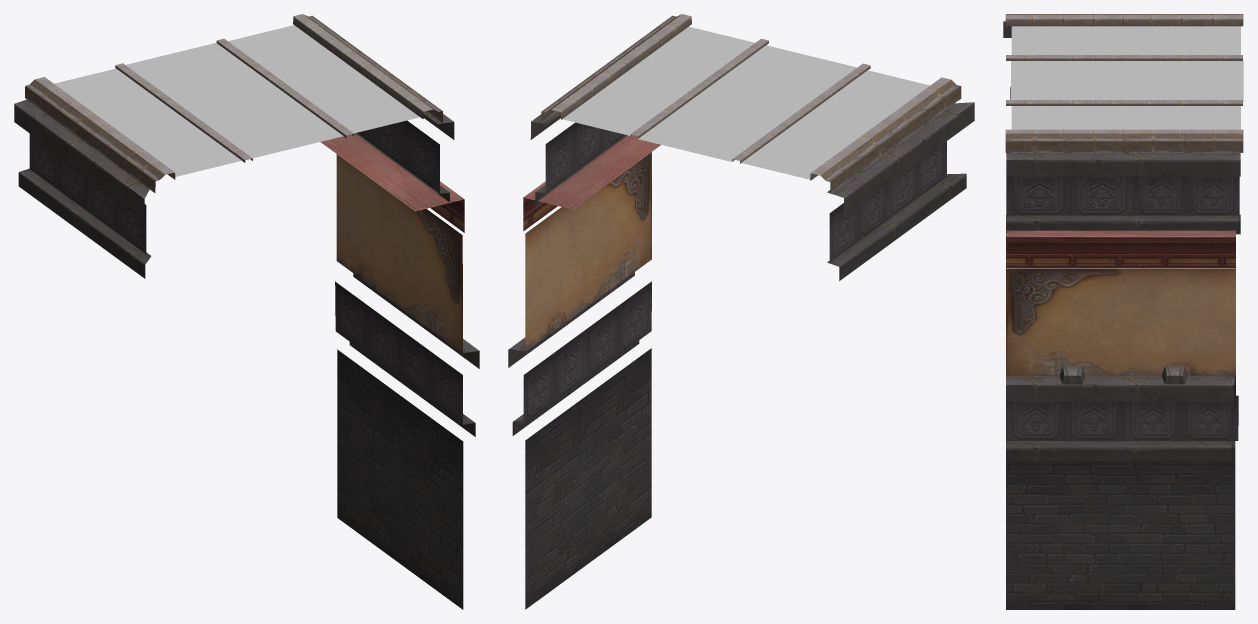
3 renders of one model, left to right at view 1: azimuth 30°, elevation 25°; view 2: azimuth 150°, elevation 25°; view 3: azimuth 270°, elevation 25°, orthographic. The views are drawn at different scales.
Parts seen in each view (by area): view 1: Group002; view 2: Group002; view 3: Group002.
Boxes of the visible parts, bbox=[...] form: Group002: bbox=[14, 14, 479, 609]; Group002: bbox=[508, 14, 974, 609]; Group002: bbox=[1003, 14, 1243, 609].
Size of the model in its own units: 505 by 729 by 343.
